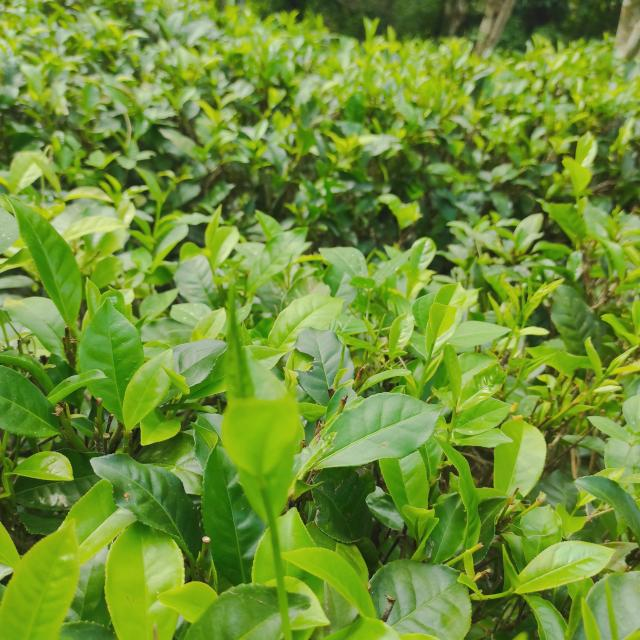unopened_leaf: (596, 567, 632, 640), (597, 339, 639, 394), (496, 536, 529, 600), (420, 350, 448, 390), (512, 341, 532, 391), (445, 394, 461, 446), (371, 309, 391, 349), (409, 506, 425, 554), (399, 372, 424, 402), (336, 334, 352, 373), (525, 265, 535, 312)
